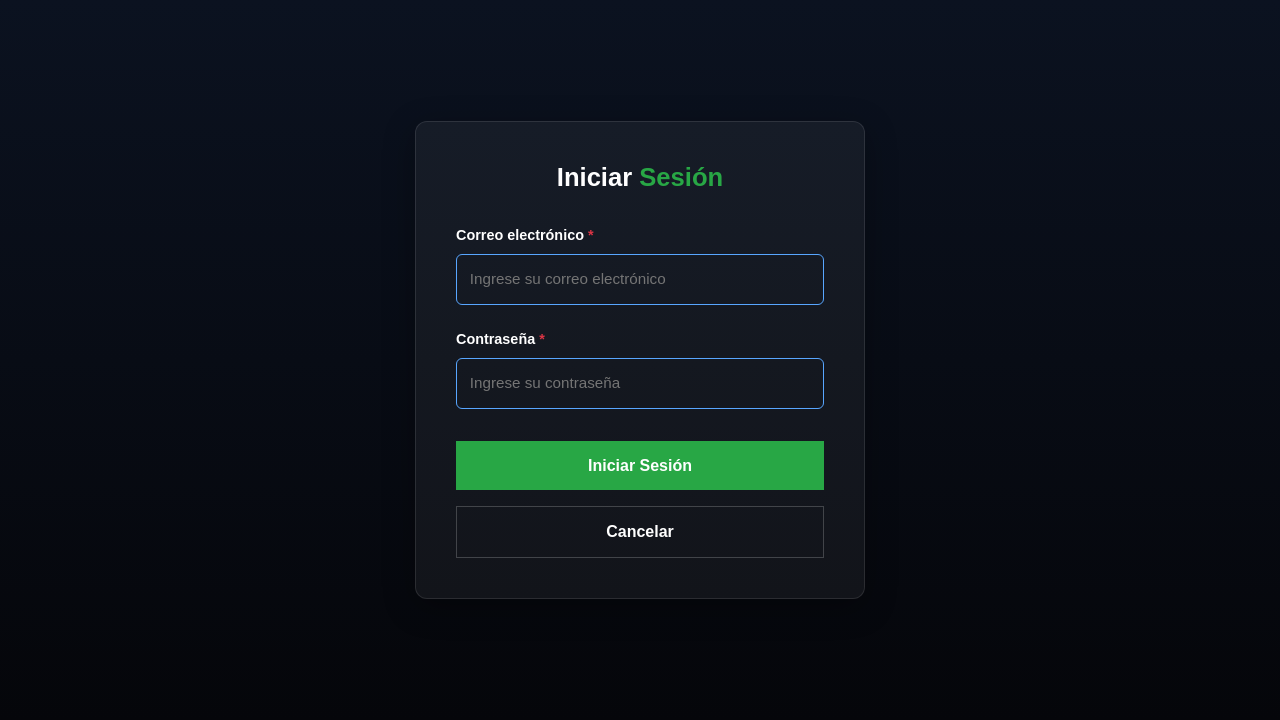
Test: INTEGRACION: DT_02 - Inicio de sesion › IT_004: Contrasena incorrecta muestra error y no redirige
expect the heading "Iniciar Sesión" is shown: met, box [557,163,723,191]
expect the form is shown: met, box [456,225,824,558]
In the field with id "correo": (640, 279) [456,254,824,304], type "tester@devtest.com"
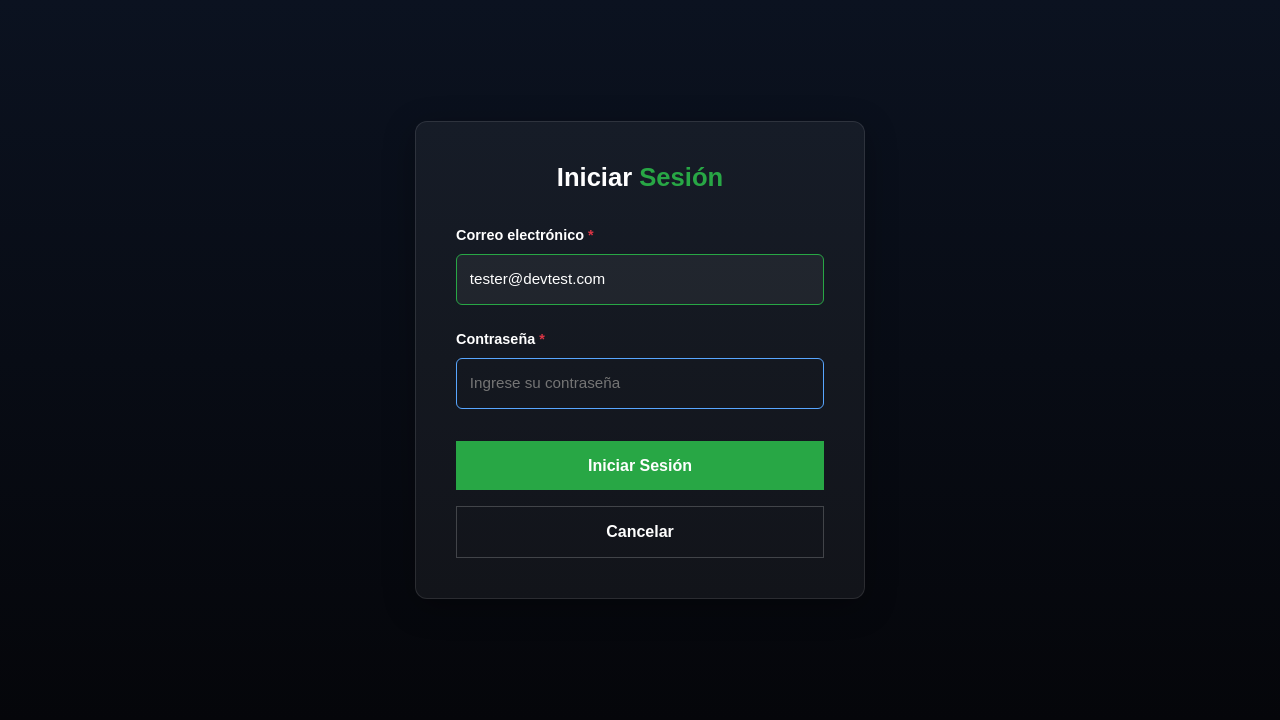
In the password field with id "contrasena": (640, 383) [456,358,824,408], type "MalaPassword"
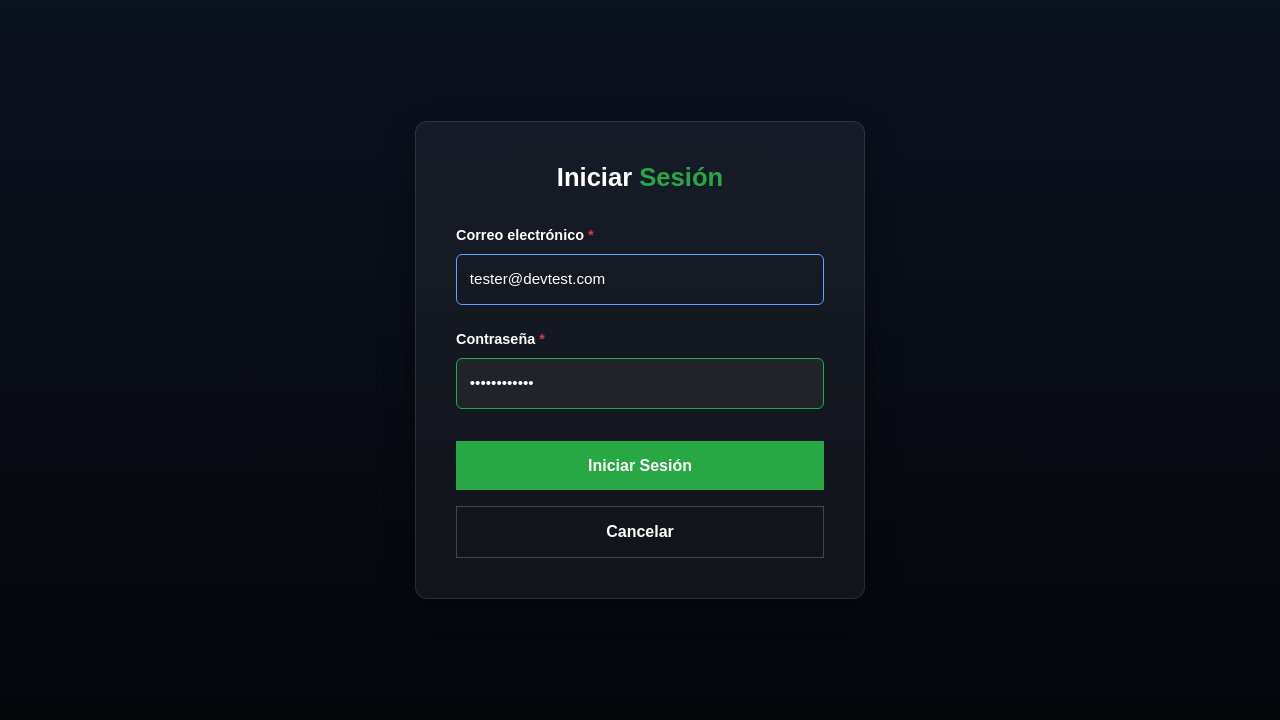
Click the button "Iniciar Sesión": (640, 466) [456,441,824,491]
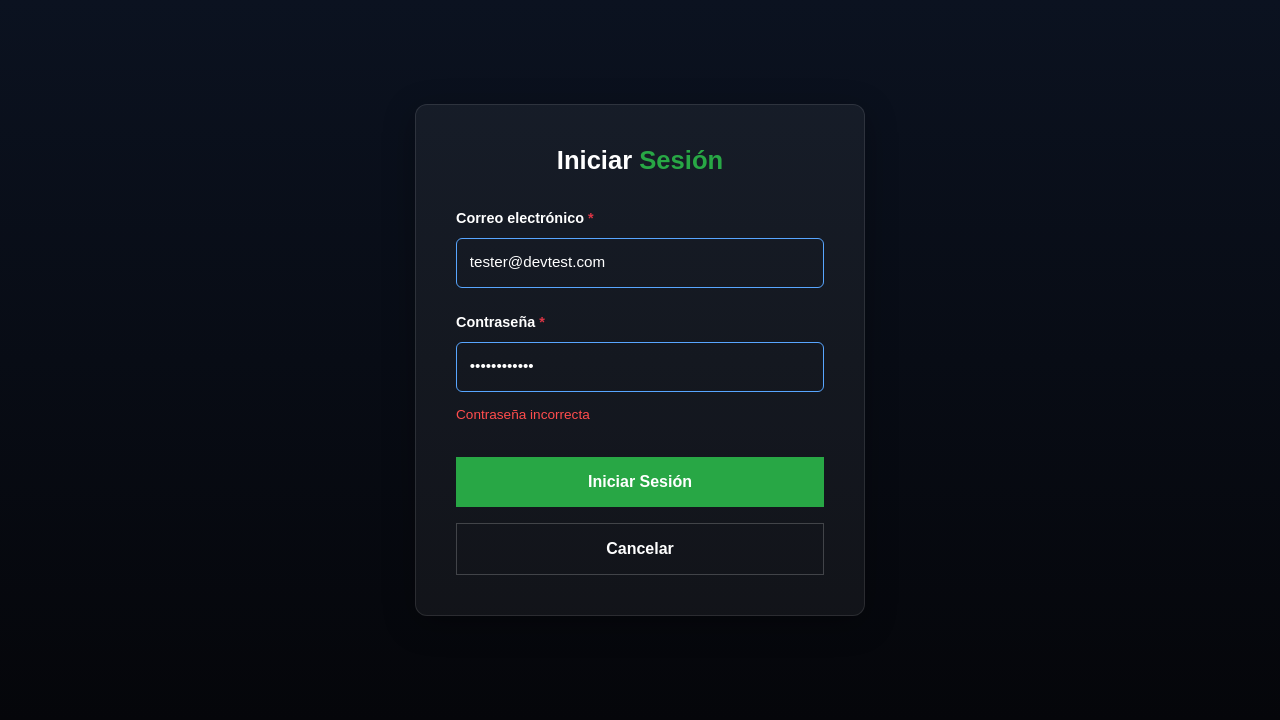
expect the text "Contraseña incorrecta" is shown: met, box [456,407,590,422]
